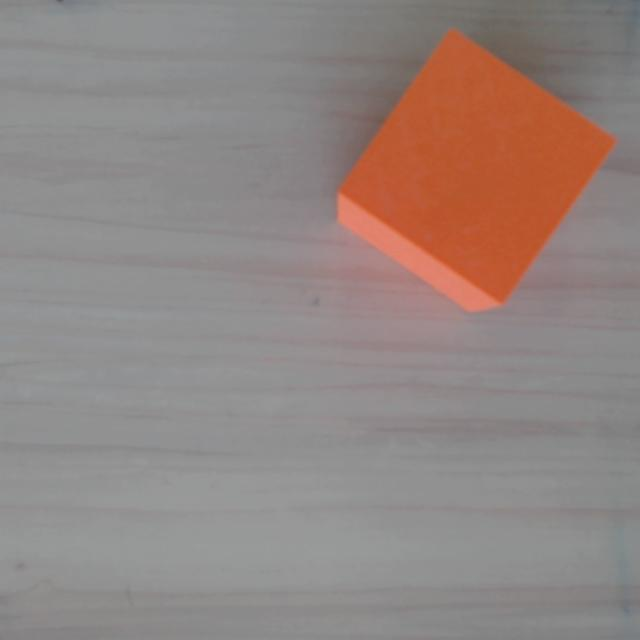Kubus-Jingga-505050: (323, 25, 618, 326)
